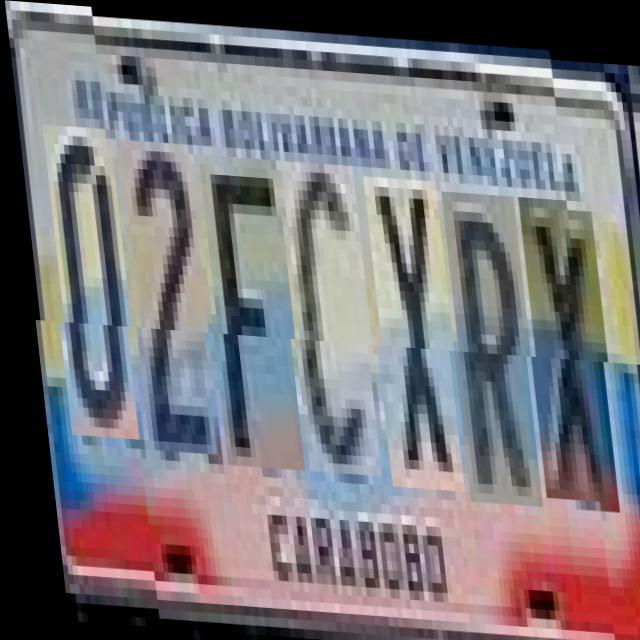0: (40, 134, 135, 448)
2: (117, 138, 212, 452)
C: (278, 156, 377, 472)
F: (196, 152, 300, 467)
R: (438, 185, 536, 500)
X: (360, 171, 459, 486), (514, 189, 612, 494)
